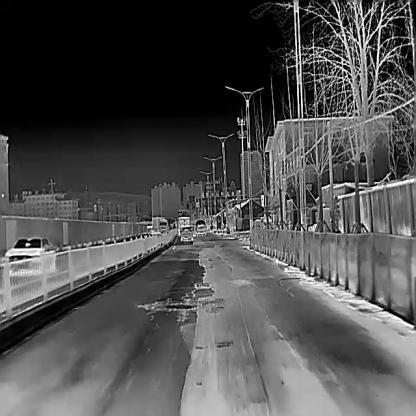car: (4, 237, 55, 275), (152, 215, 166, 231), (178, 215, 189, 233), (180, 228, 192, 240), (197, 225, 205, 234)
